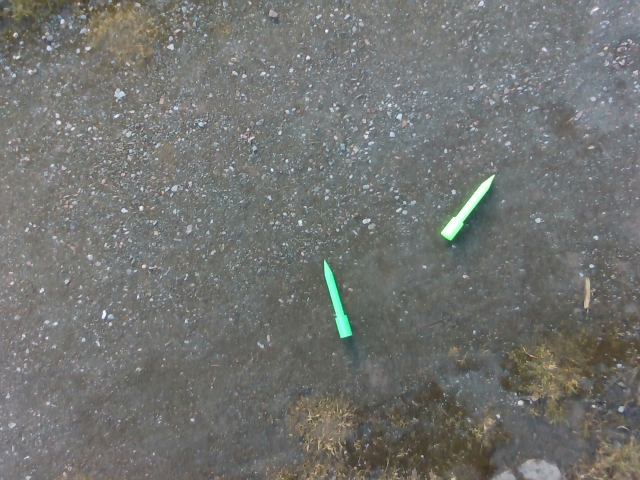Probe: (436, 167, 501, 245), (321, 253, 360, 346)
